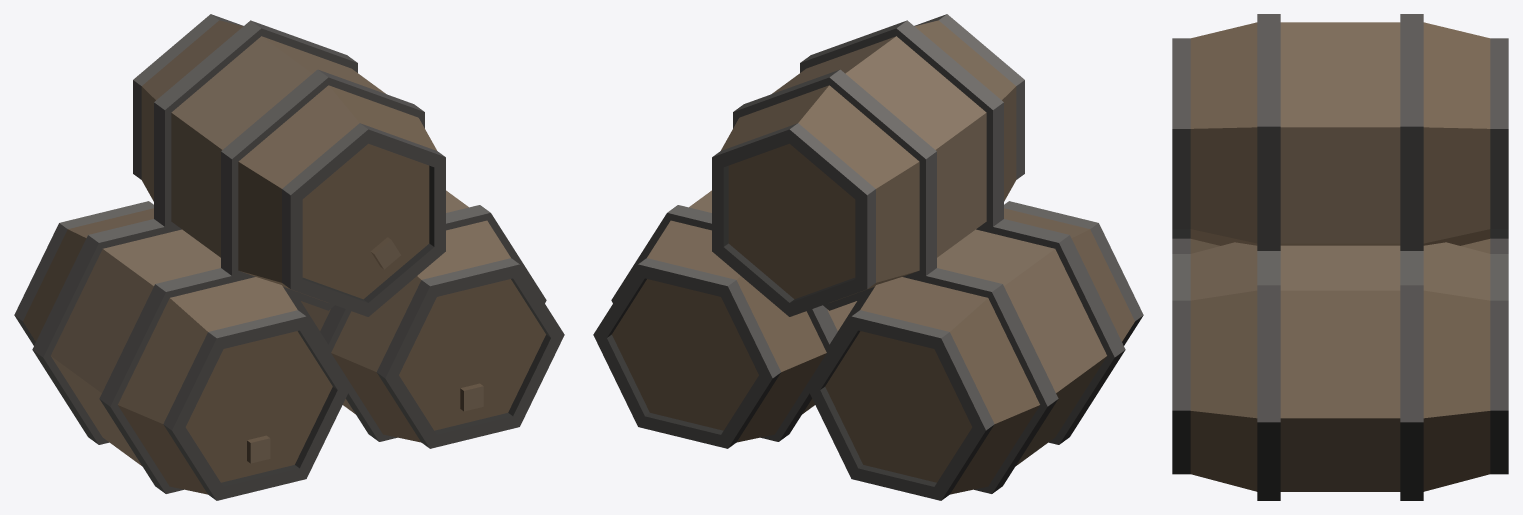
The model's file is BarrelStack_02.gltf.
3 renders of one model, left to right at view 1: azimuth 30°, elevation 25°; view 2: azimuth 150°, elevation 25°; view 3: azimuth 270°, elevation 25°, orthographic. The views are drawn at different scales.
Parts seen in each view (by area): view 1: SF_Prop_BarrelStack_02; view 2: SF_Prop_BarrelStack_02; view 3: SF_Prop_BarrelStack_02.
Boxes of the visible parts, x1=… form: SF_Prop_BarrelStack_02: x1=14, y1=14, x2=564, y2=500; SF_Prop_BarrelStack_02: x1=593, y1=14, x2=1143, y2=500; SF_Prop_BarrelStack_02: x1=1172, y1=14, x2=1508, y2=500.
Size of the model in its own units: 0.0271 by 0.0224 by 0.017.
Materials: 1 (1 with a texture image).
